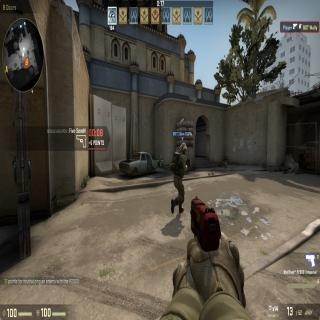CT-Body: (171, 141, 187, 212)
CT-Head: (177, 140, 188, 156)
